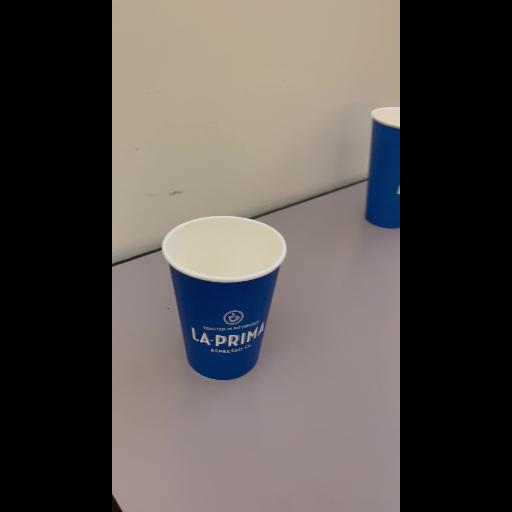lp_paper_cup: (160, 214, 288, 380), (364, 107, 400, 229)
